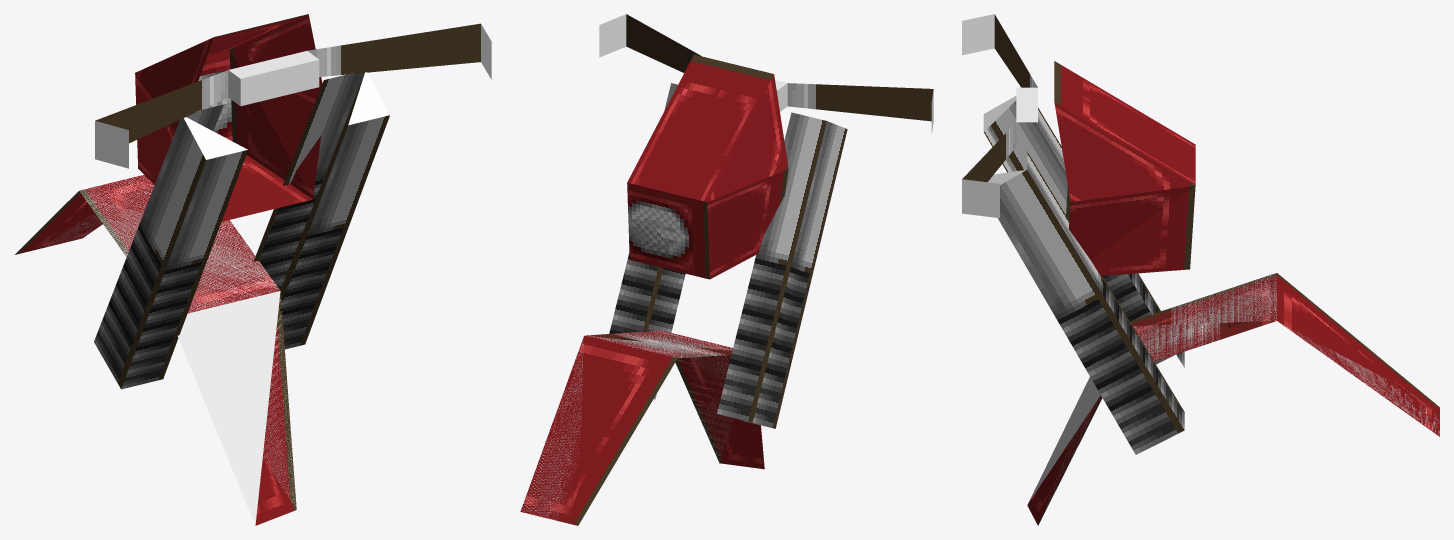
3 views of the same model, side by side, from view 1: azimuth 30°, elevation 25°; view 2: azimuth 150°, elevation 25°; view 3: azimuth 270°, elevation 25° (orthographic). The views are drawn at different scales.
Visible parts, largest first — view 1: prim137-Cylinder03; view 2: prim137-Cylinder03; view 3: prim137-Cylinder03.
Part boxes in pixels (x1,y1,x2,y2): prim137-Cylinder03: (15, 14, 491, 525); prim137-Cylinder03: (520, 14, 933, 525); prim137-Cylinder03: (962, 14, 1439, 525).
Size of the model in its own units: 74 by 88 by 88.
3 materials, 1 textured.
